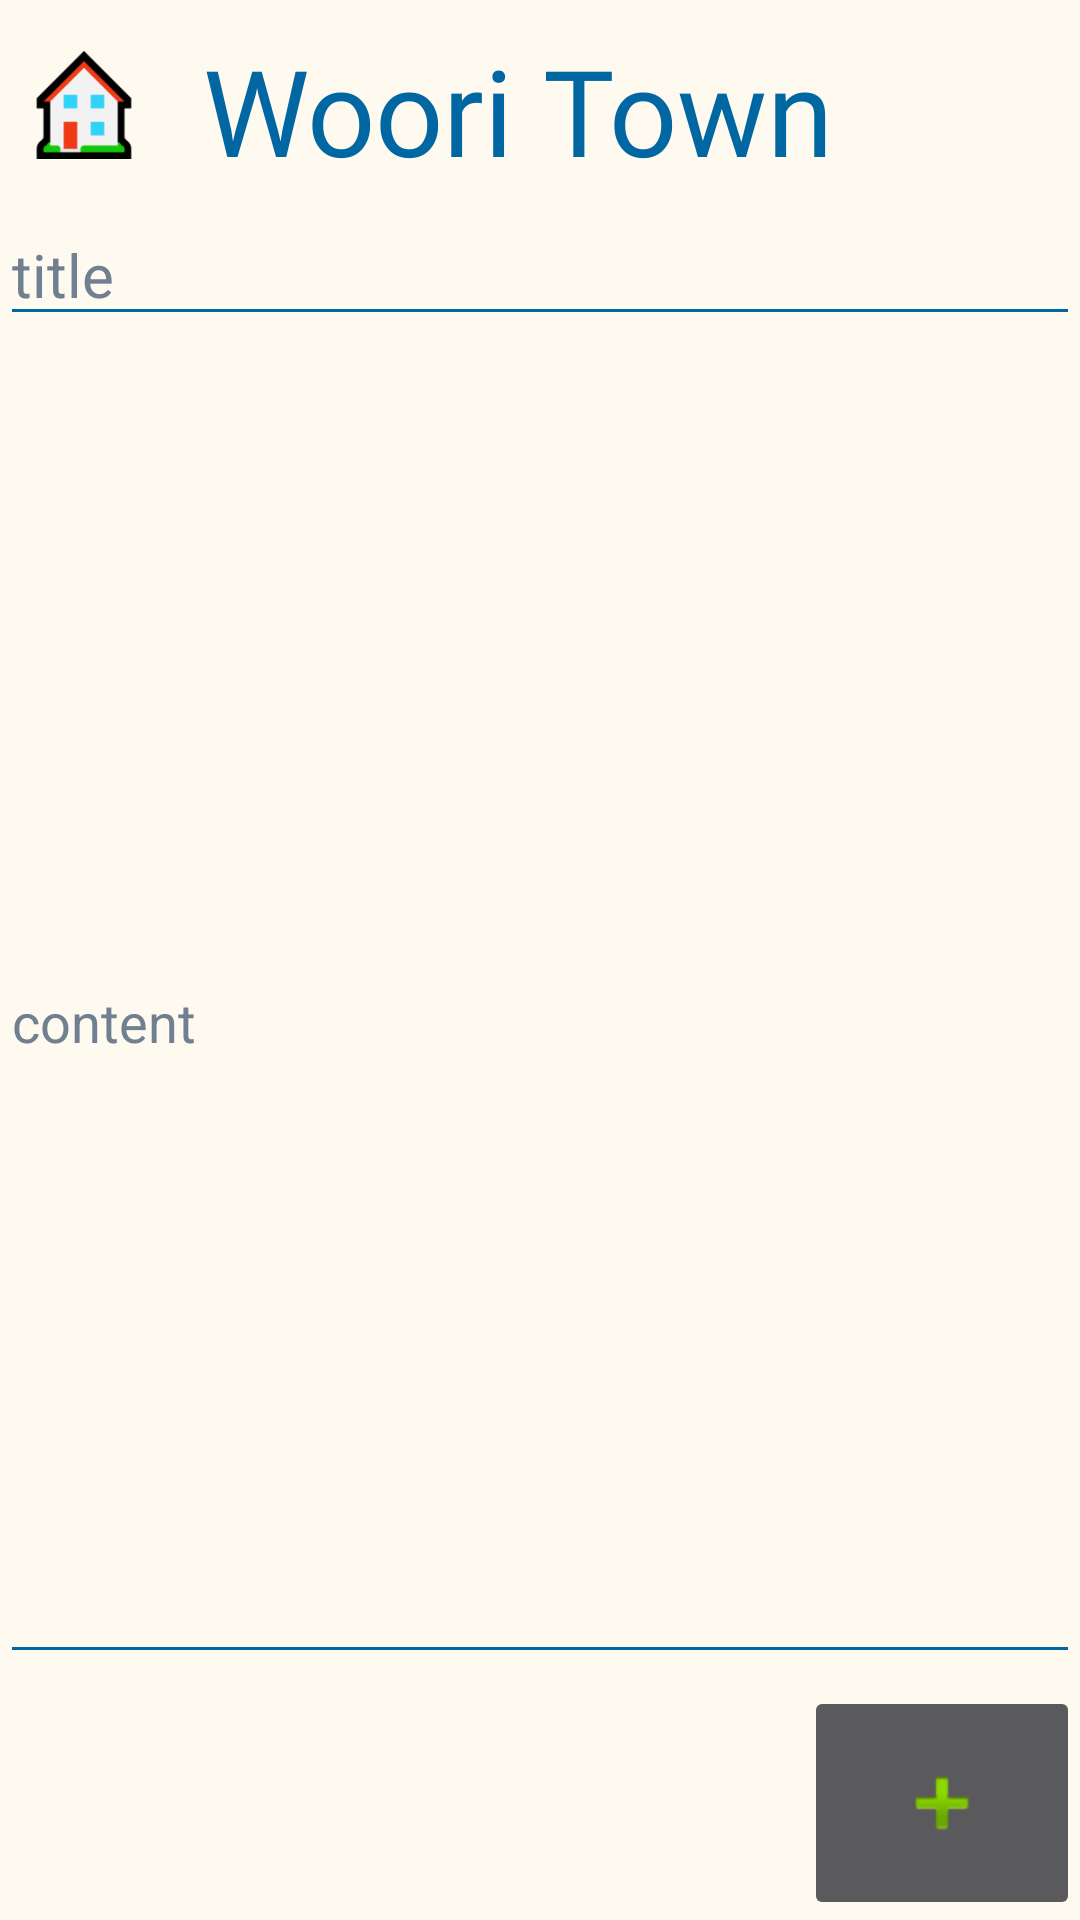

Locate icon controls on the screen. Image size 1080 x 1920, boxes as (x1, y1, x2, y2).
add: (816, 1704, 1068, 1902)
